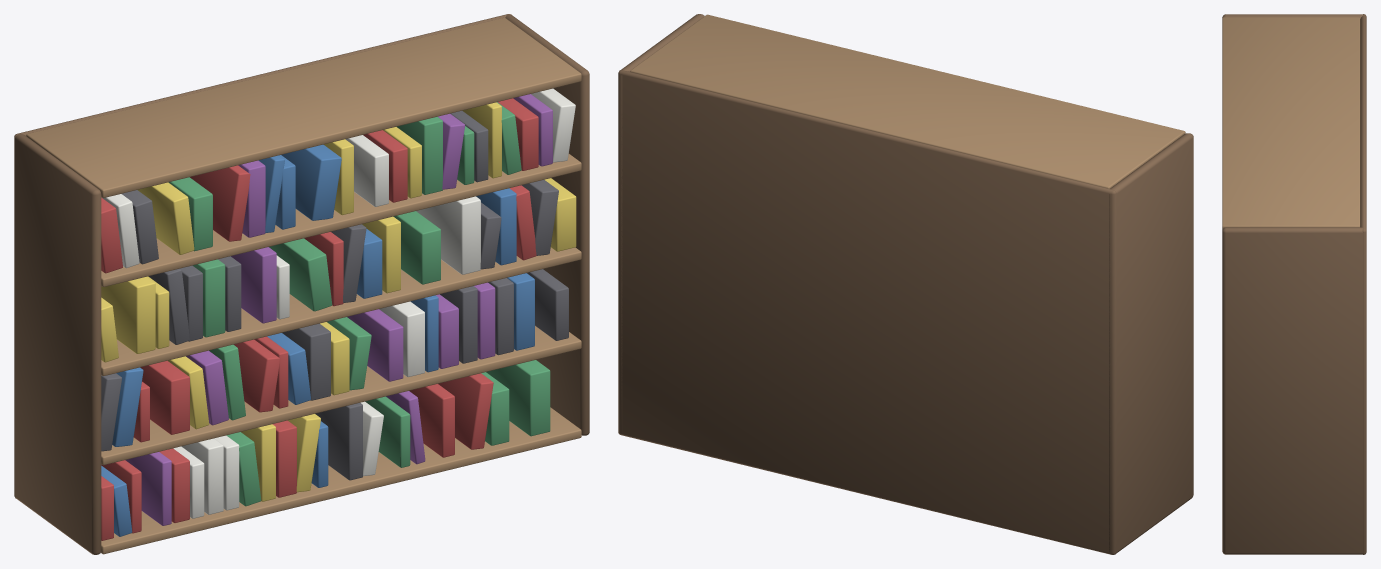
File: shelf.glb
The picture shows the model from 3 angles, left to right: view 1: azimuth 30°, elevation 25°; view 2: azimuth 150°, elevation 25°; view 3: azimuth 270°, elevation 25°; orthographic projection. The views are drawn at different scales.
Visible parts, largest first — view 1: Cube.094, Cube, Cube.001, Cube.003, Cube.048, Cube.025, Cube.070, Cube.064, Cube.024, Cube.080, Cube.050, Cube.058 (+83 smaller); view 2: Cube.002, Cube.094, Cube, Cube.001; view 3: Cube.001, Cube.094, Cube.002, Cube.
Boxes of the visible parts, x1=… form: Cube.094: x1=26, y1=17, x2=581, y2=197; Cube: x1=15, y1=133, x2=101, y2=554; Cube.001: x1=505, y1=14, x2=589, y2=435; Cube.003: x1=101, y1=407, x2=581, y2=554; Cube.048: x1=101, y1=247, x2=581, y2=375; Cube.025: x1=101, y1=326, x2=581, y2=465; Cube.070: x1=101, y1=153, x2=581, y2=286; Cube.064: x1=416, y1=196, x2=480, y2=274; Cube.024: x1=486, y1=360, x2=550, y2=436; Cube.080: x1=281, y1=144, x2=341, y2=220; Cube.050: x1=101, y1=276, x2=155, y2=353; Cube.058: x1=269, y1=238, x2=332, y2=311; Cube.002: x1=618, y1=70, x2=1116, y2=554; Cube.094: x1=630, y1=14, x2=1185, y2=188; Cube: x1=1109, y1=133, x2=1193, y2=553; Cube.001: x1=620, y1=14, x2=704, y2=433; Cube.001: x1=1222, y1=227, x2=1363, y2=554; Cube.094: x1=1222, y1=17, x2=1360, y2=229; Cube.002: x1=1360, y1=14, x2=1366, y2=554; Cube: x1=1222, y1=14, x2=1363, y2=18.
Bounding box in the file's own units: 160 × 112 × 45.
